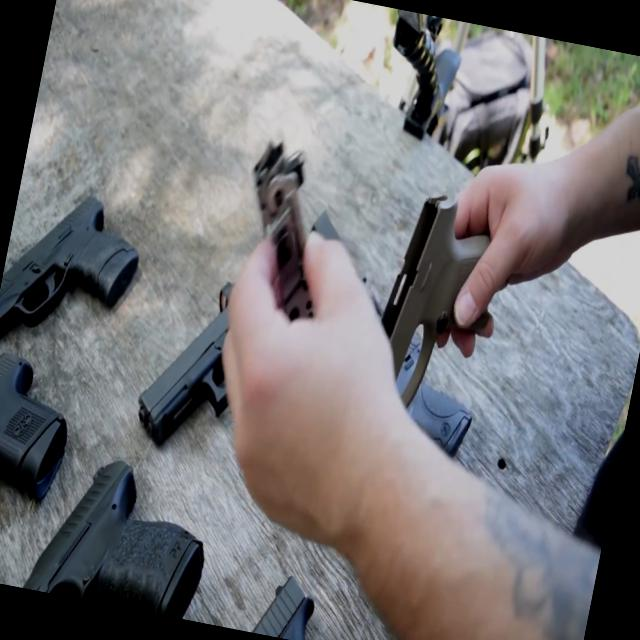handgun: (19, 456, 229, 622), (0, 179, 158, 378), (0, 348, 109, 529)
